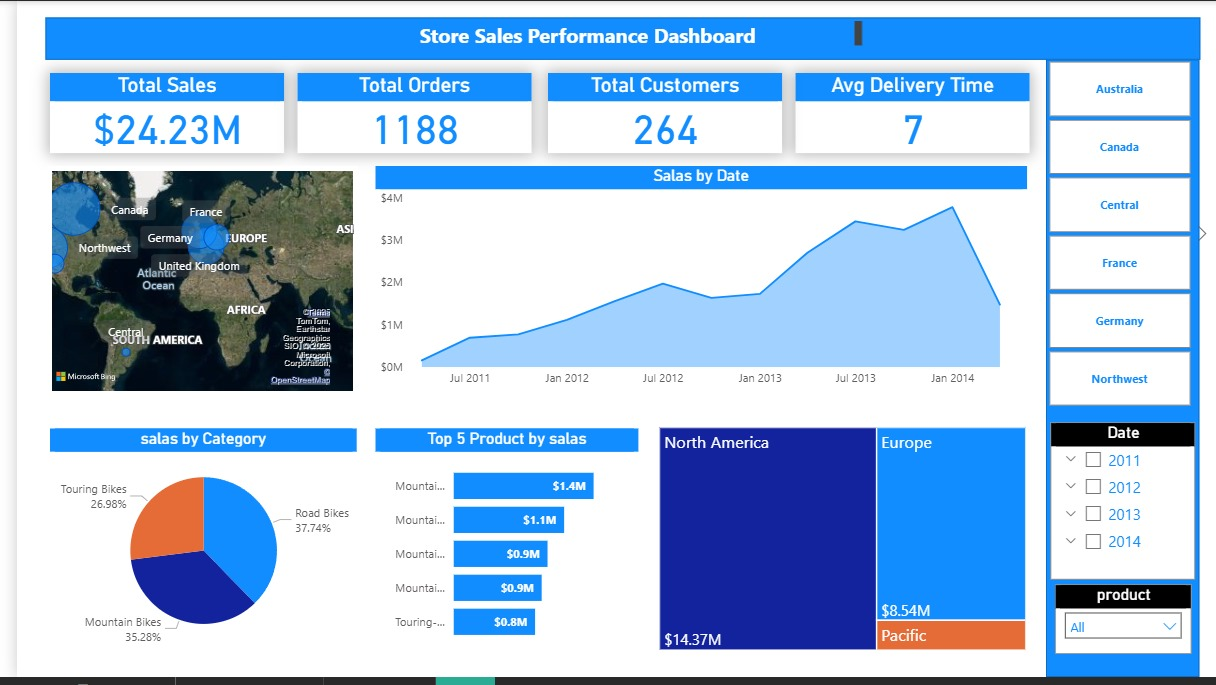

The page's visual inventory and layout, read from the dashboard file:
{"tool":"powerbi","page":{"name":"dashboard","canvas":[1280,720],"ordinal":0},"visuals":[{"type":"shape","box":[1096.7,62.2,163.3,657.8],"z":0},{"type":"card","title":"Avg Delivery Time","fields":{"Values":["measure.AVG shap mode"]},"box":[829.8,76.4,249.5,85],"z":1000},{"type":"card","title":"Total Sales","fields":{"Values":["measure.total sales"]},"box":[34.9,76.4,249.5,85],"z":2000},{"type":"card","title":"Total Orders","fields":{"Values":["measure.t order"]},"box":[299.4,76.4,249.5,85],"z":3000},{"type":"card","title":" Total Customers","fields":{"Values":["measure.t customer"]},"box":[565.9,76.4,249.5,85],"z":4000},{"type":"slicer","title":"Date","fields":{"Values":["Sales.OrderDate.Variation.Date Hierarchy.Year","Sales.OrderDate.Variation.Date Hierarchy.Quarter"]},"box":[1101.4,448.6,154.3,167.1],"z":5000},{"type":"slicer","title":"Territory","fields":{"Values":["Sales.Territory"]},"box":[1079,44,190,388],"z":6000},{"type":"slicer","title":"product","fields":{"Values":["Sales.ProductCategory Hierarchy.ProductCategory","Sales.ProductCategory Hierarchy.ProductSubCategory","Sales.ProductCategory Hierarchy.Product"]},"box":[1105,621.2,145,73.8],"z":7000},{"type":"shapeMap","title":"salas by Territory","fields":{"Category":["Sales.TerritoryGroup"],"Value":["Sum(Sales.salas)"]},"box":[31.2,176.2,331.2,243.8],"z":8000},{"type":"treemap","fields":{"Values":["Sum(Sales.salas)"],"Group":["Sales.TerritoryGroup","Sales.Territory","Sales.Product"]},"box":[678.6,448.6,400,247.1],"z":9000},{"type":"pieChart","title":" salas by Category ","fields":{"Y":["Sum(Sales.salas)"],"Category":["Sales.ProductCategory Hierarchy.ProductCategory","Sales.ProductCategory Hierarchy.ProductSubCategory","Sales.ProductCategory Hierarchy.Product"]},"box":[35,455,326.7,240],"z":10000},{"type":"areaChart","title":"Salas by Date","fields":{"Category":["Sales.OrderDate.Variation.Date Hierarchy.Year","Sales.OrderDate.Variation.Date Hierarchy.Quarter"],"Y":["Sum(Sales.salas)"]},"box":[382.5,176.2,693.8,243.8],"z":11000},{"type":"clusteredBarChart","title":"Top 5 Product by salas ","fields":{"Category":["Sales.Product"],"Y":["Sum(Sales.salas)"]},"box":[382,456,280,240],"z":12000},{"type":"shape","box":[31,18,1230,45],"z":14000},{"type":"textbox","box":[423.3,16.7,481.7,45],"z":14500}]}

Visuals, with their boxes in screenshot pixels (x1, y1, x2, y2), scaled from the page's 1280x720 canvas onto the 1216x685 screenshot:
shape: 1042:59:1197:684
"Avg Delivery Time" card: 788:73:1025:154
"Total Sales" card: 33:73:270:154
"Total Orders" card: 284:73:521:154
" Total Customers" card: 538:73:775:154
"Date" slicer: 1046:427:1193:586
"Territory" slicer: 1025:42:1206:411
"product" slicer: 1050:591:1188:661
"salas by Territory" shapeMap: 30:168:344:400
treemap - Sum(Sales.salas) x Sales.TerritoryGroup: 645:427:1025:662
" salas by Category " pieChart: 33:433:344:661
"Salas by Date" areaChart: 363:168:1022:400
"Top 5 Product by salas " clusteredBarChart: 363:434:629:662
shape: 29:17:1198:60
textbox: 402:16:860:59
